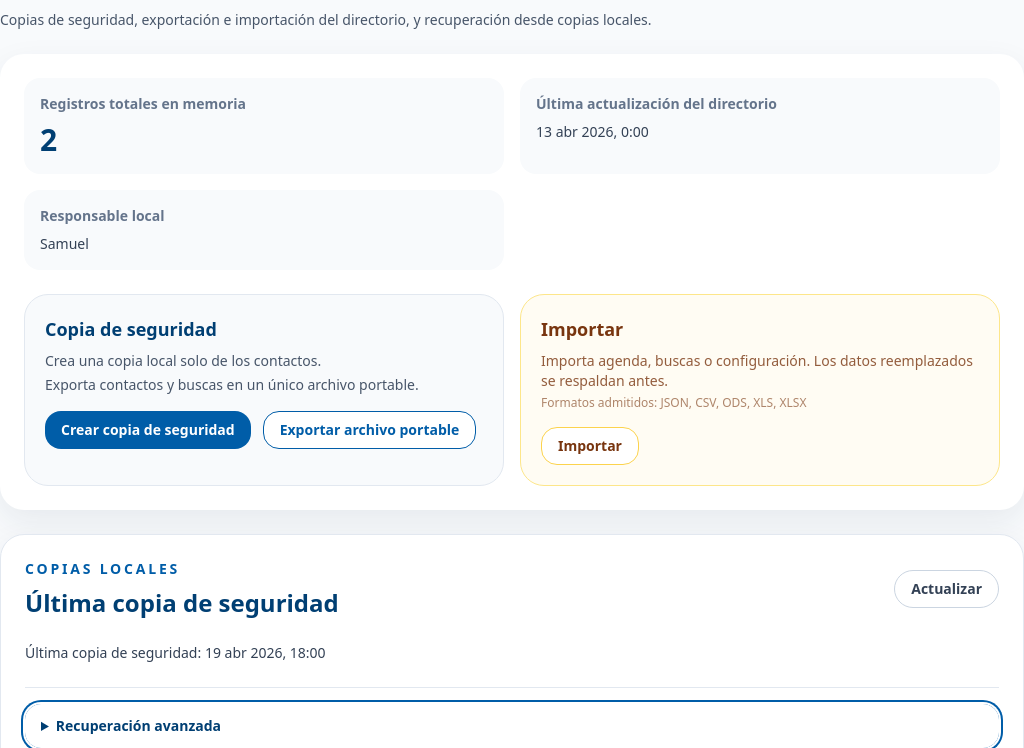
Scenario: DataManagementSection (Configuración data section) › keeps recovery guidance and audit reset in an advanced native disclosure
The image size is (1024, 748).
expect the text "Recuperación avanzada" is shown: met, box 25,687 -> 999,747
Click the heading "Recuperación avanzada" at (138, 726), box 25,704 -> 999,747
(page scrolled)
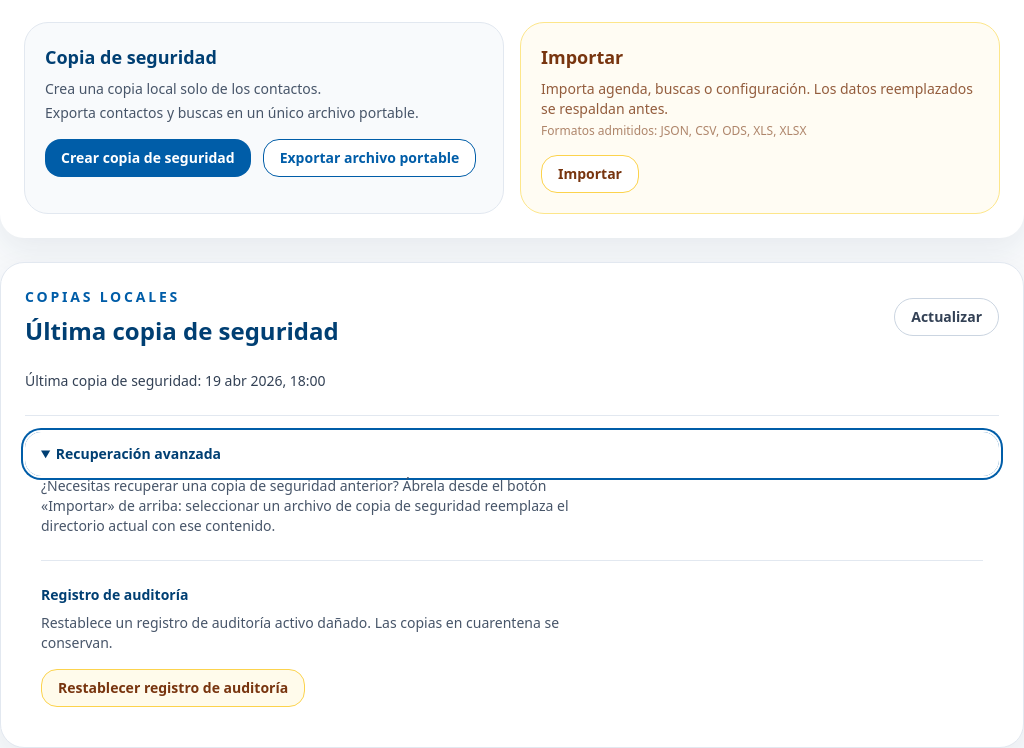
expect the button "Restablecer registro de auditoría" is shown: met, box 41,669 -> 305,707
expect the text "Ábrela desde el botón «Importar» de arriba" is shown: met, box 41,476 -> 569,535
